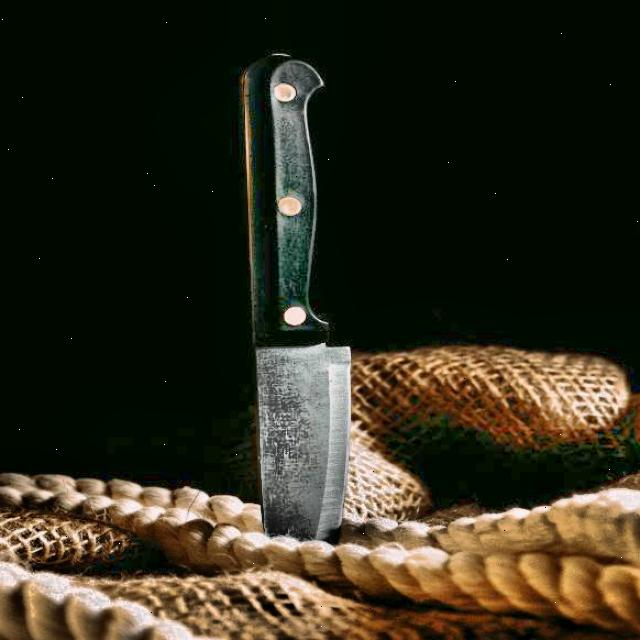knife: (223, 47, 358, 547)
